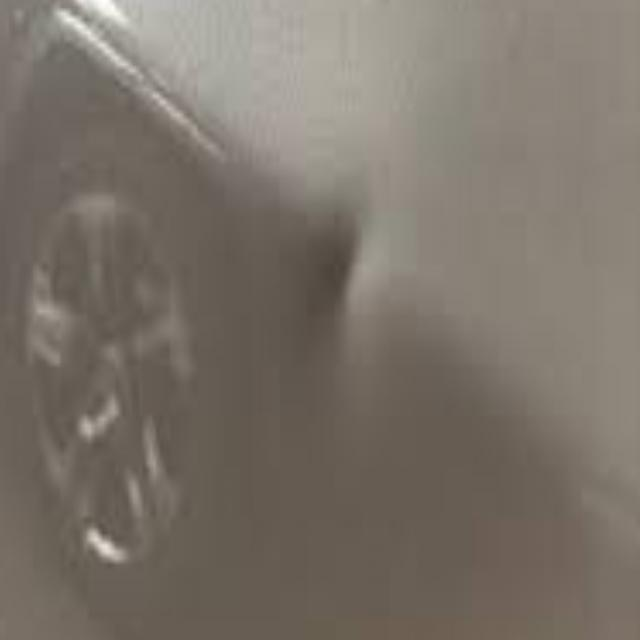dents: (302, 187, 401, 368)
